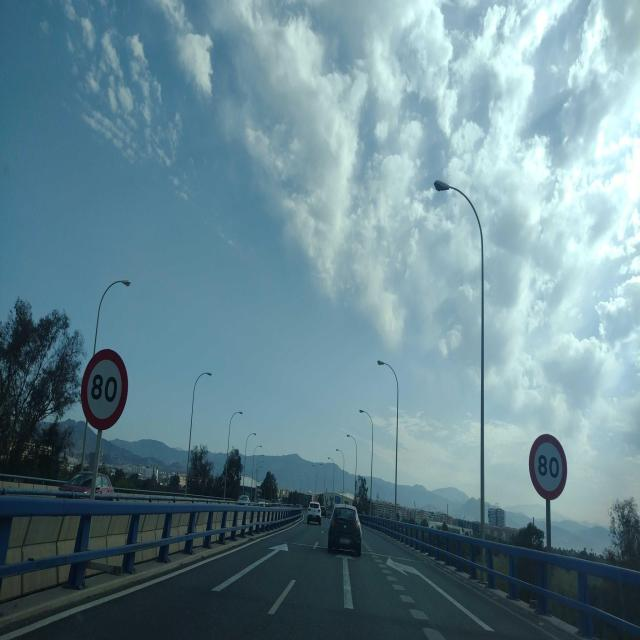car: (327, 504, 362, 555), (306, 502, 322, 525)
